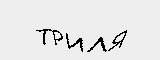И: (64, 32, 83, 52)
Л: (84, 34, 109, 56)
Р: (49, 25, 65, 46)
Т: (34, 24, 52, 47)
Я: (110, 29, 129, 52)
